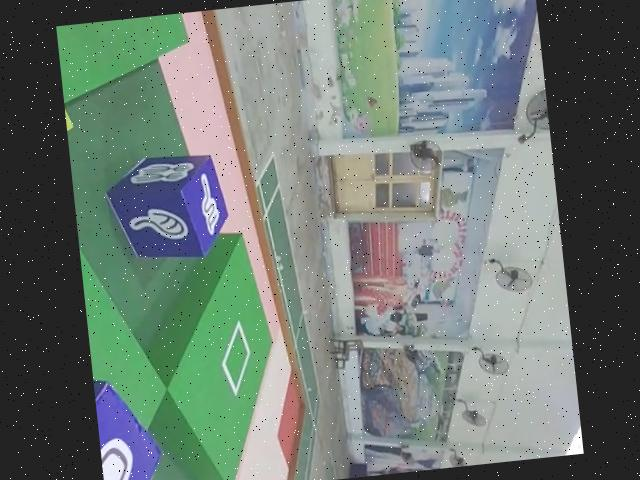R2 Fake Blue: (100, 150, 231, 268)
